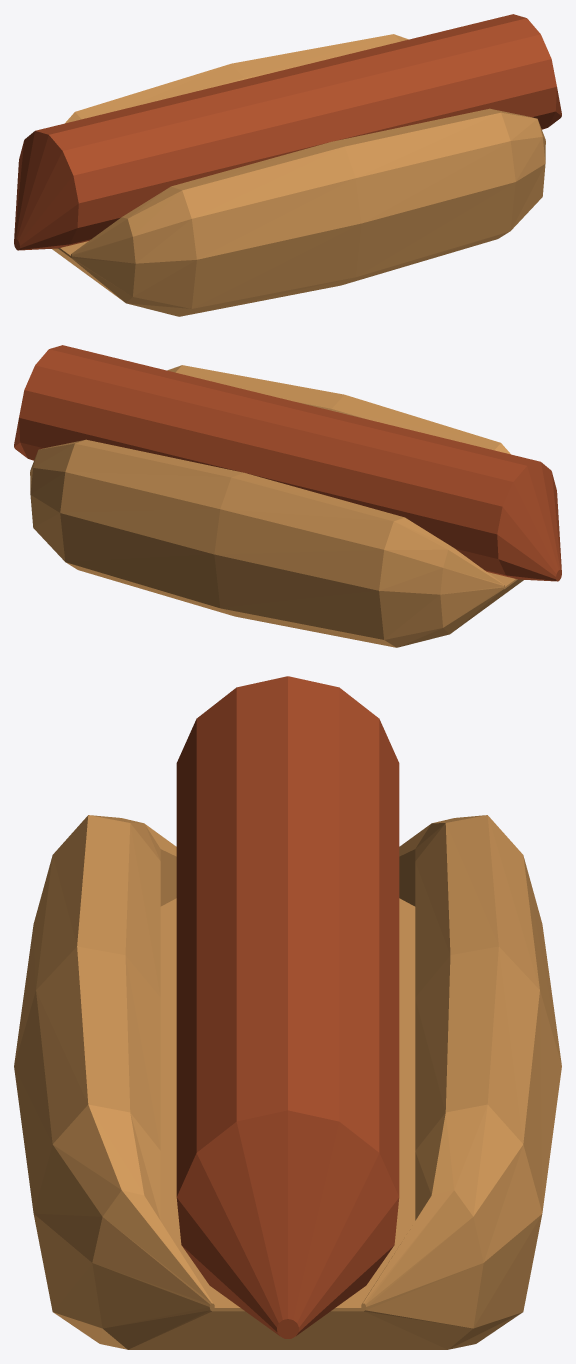
Rendered from NEW_RECOVERY_004_LOD2.fbx.
The picture shows the model from 3 angles, top to bottom: view 1: azimuth 30°, elevation 25°; view 2: azimuth 150°, elevation 25°; view 3: azimuth 270°, elevation 25°; orthographic projection. The views are drawn at different scales.
Parts seen in each view (by area): view 1: whole_split_bun, whole_sausage; view 2: whole_split_bun, whole_sausage; view 3: whole_split_bun, whole_sausage.
Boxes of the visible parts, x1,y1,x2,y2 form: whole_split_bun: [52, 34, 545, 316]; whole_sausage: [14, 14, 561, 250]; whole_split_bun: [30, 365, 523, 647]; whole_sausage: [14, 345, 561, 581]; whole_split_bun: [14, 815, 561, 1349]; whole_sausage: [176, 676, 399, 1338].
Bounding box in the file's own units: 23.8 × 11.2 × 7.14.
